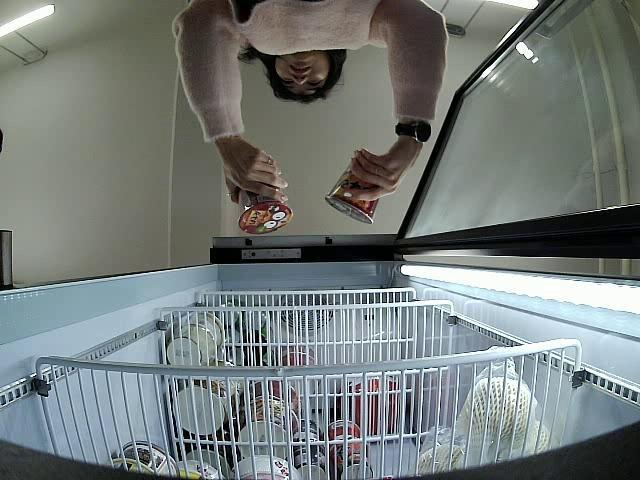06_nuguri_S: (325, 149, 381, 225), (235, 182, 293, 236)
